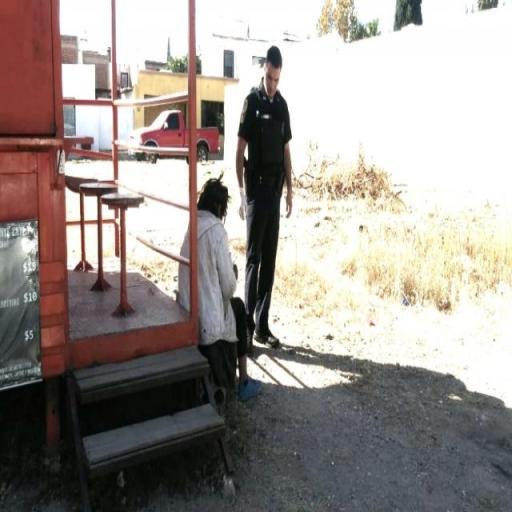person: (171, 174, 257, 402), (234, 41, 293, 349)
